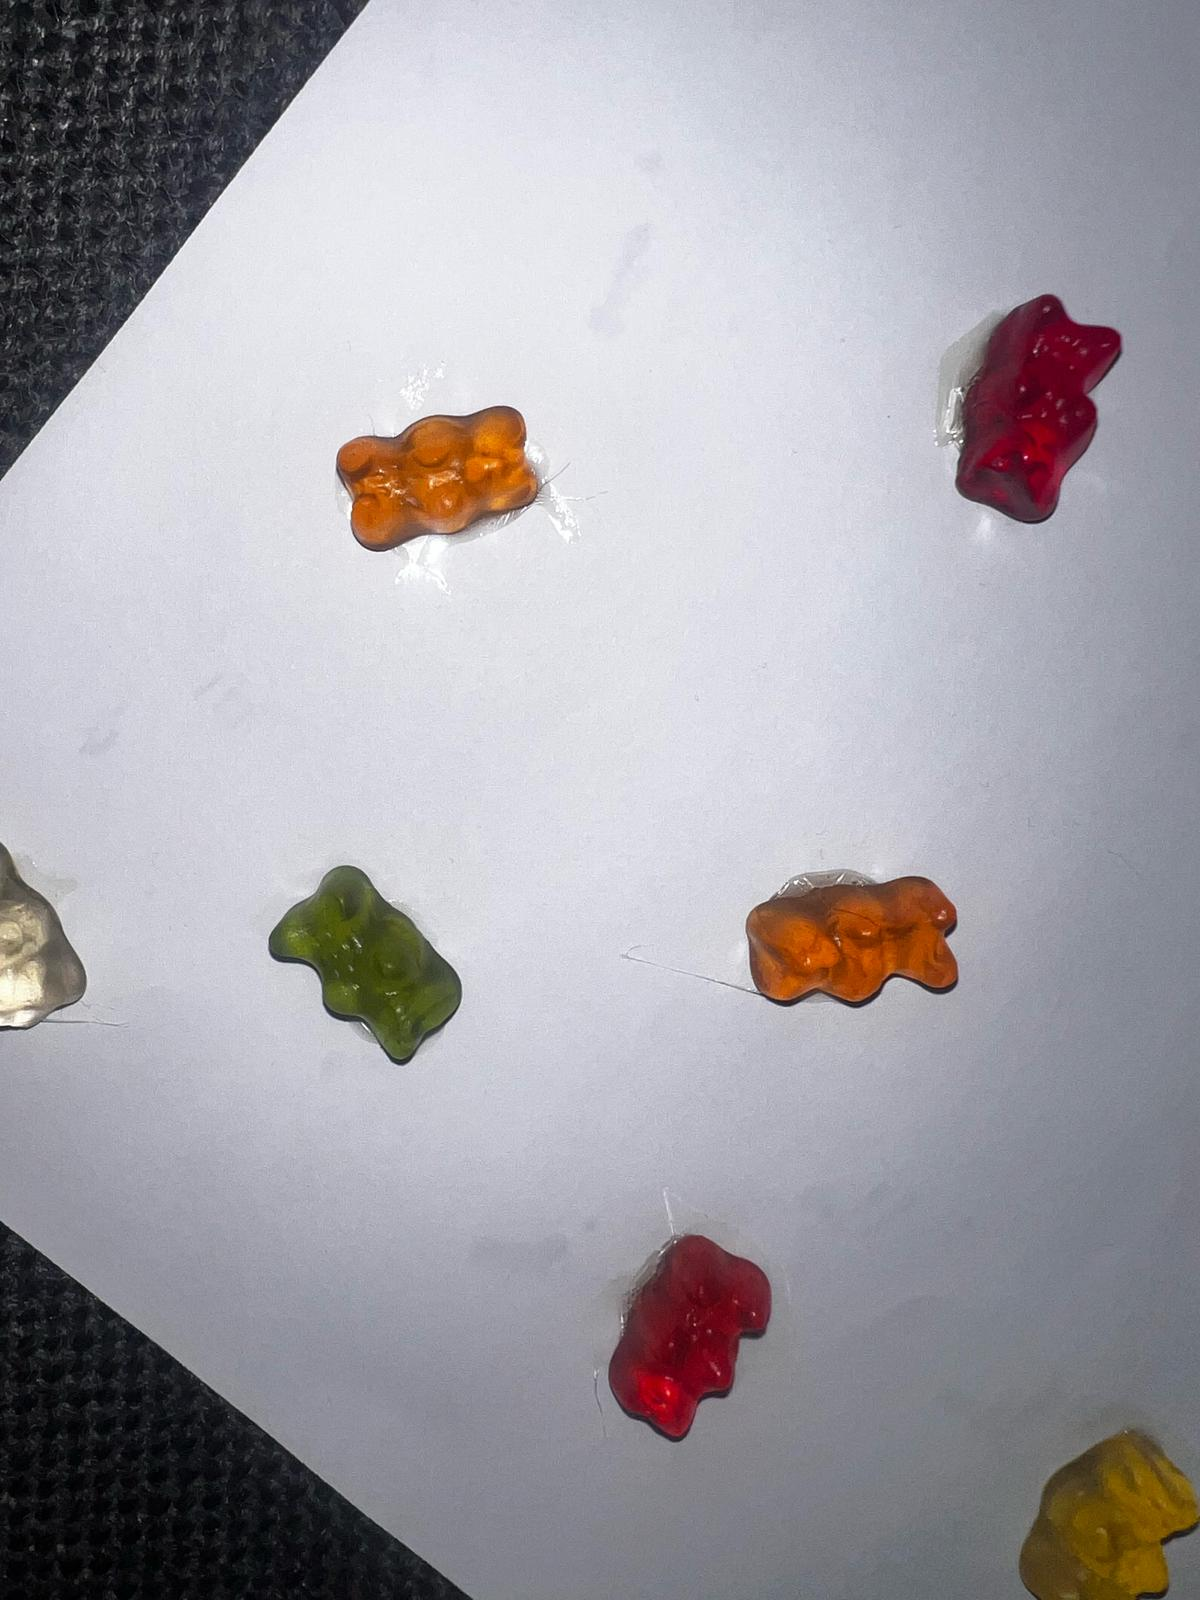gummybear: (948, 283, 1134, 546), (599, 1225, 776, 1479), (261, 863, 475, 1072), (326, 397, 547, 561), (1003, 1419, 1200, 1600), (741, 866, 966, 1019)
